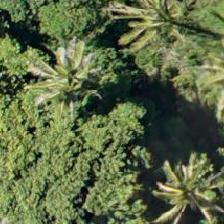coconut_tree: (16, 29, 106, 119), (142, 146, 223, 223), (111, 0, 201, 61)
